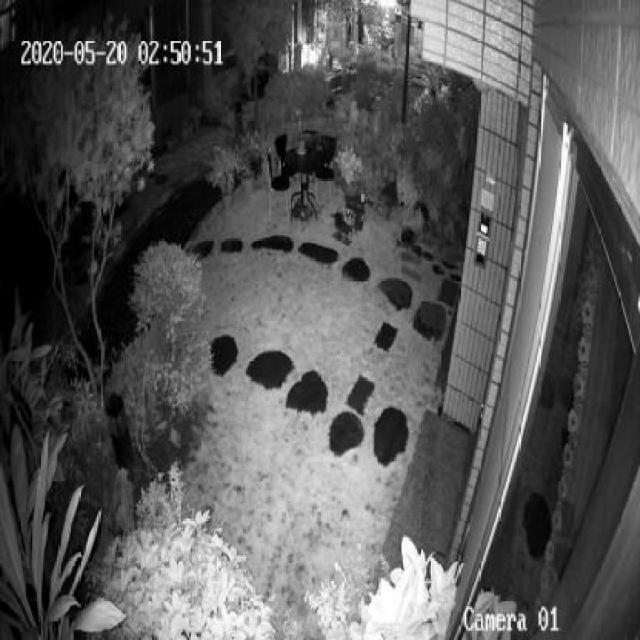animals: (325, 211, 358, 246)
